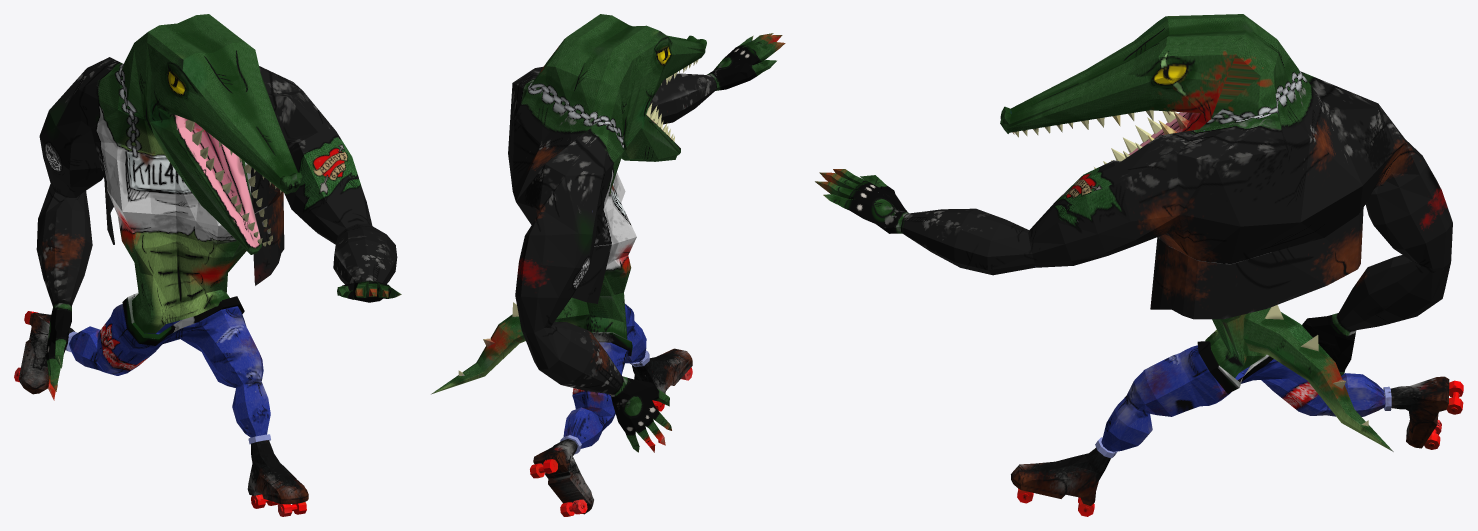
Rendered from cocodrilaBonesSelect_000033.obj.
The picture shows the model from 3 angles, left to right: view 1: azimuth 30°, elevation 25°; view 2: azimuth 150°, elevation 25°; view 3: azimuth 270°, elevation 25°; orthographic projection. The views are drawn at different scales.
Visible parts, largest first — view 1: Crocodile.002_Cylinder.002; view 2: Crocodile.002_Cylinder.002; view 3: Crocodile.002_Cylinder.002.
Part boxes in pixels (left/top/right/bottom): Crocodile.002_Cylinder.002: left=14, top=14, right=401, bottom=516; Crocodile.002_Cylinder.002: left=431, top=14, right=785, bottom=516; Crocodile.002_Cylinder.002: left=815, top=14, right=1463, bottom=516.
Size of the model in its own units: 3.01 by 5.93 by 7.29.
